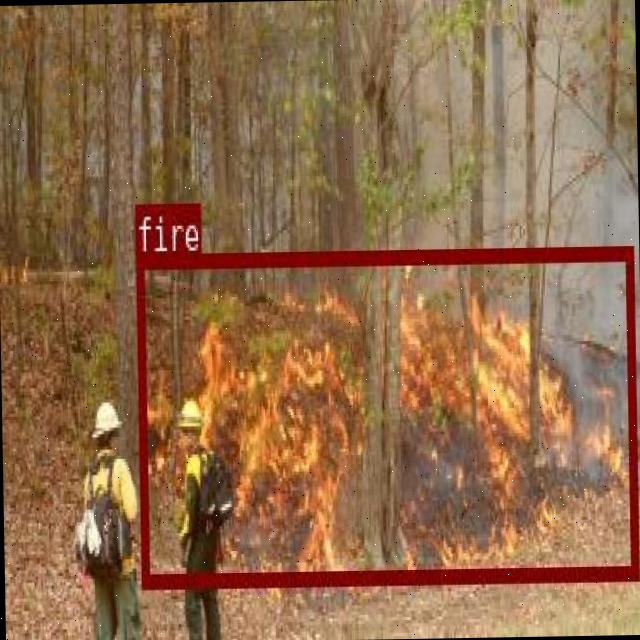fire: (134, 245, 636, 584)
